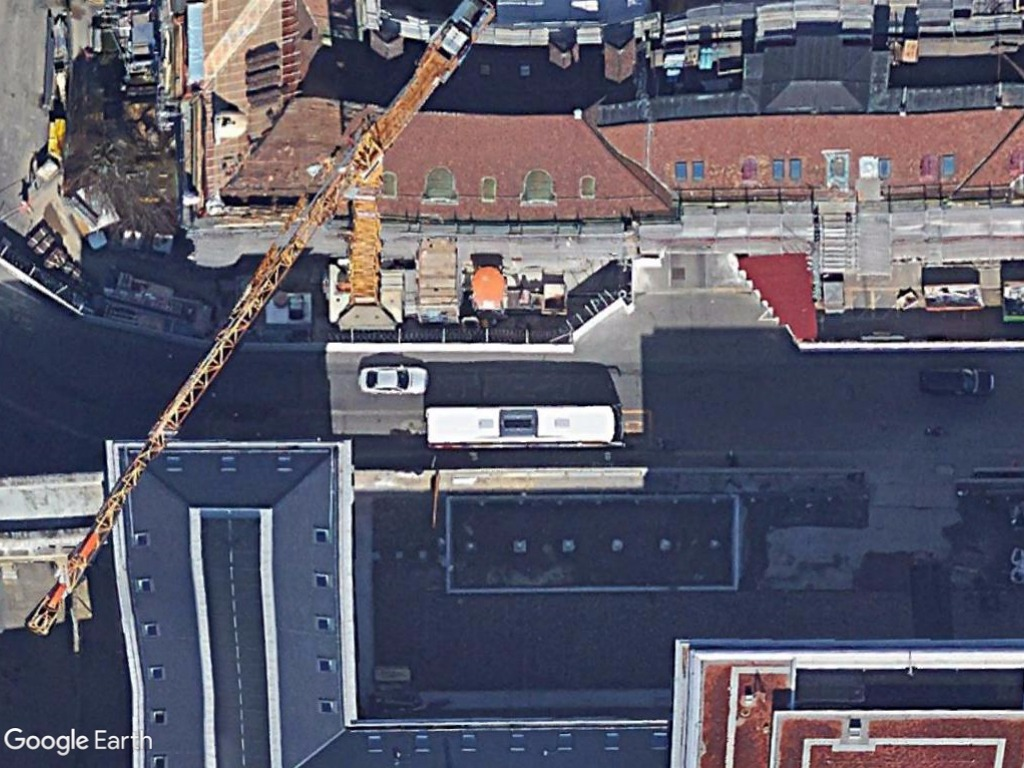bus: (421, 402, 629, 451)
car: (917, 365, 999, 400), (358, 364, 429, 396)
